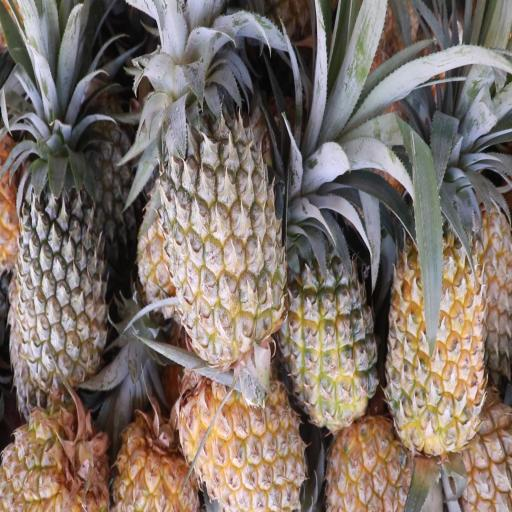------------------------------: (154, 16, 290, 368), (274, 182, 379, 434)
Pineapple - v8 v1: (380, 162, 486, 462), (175, 366, 310, 512)
